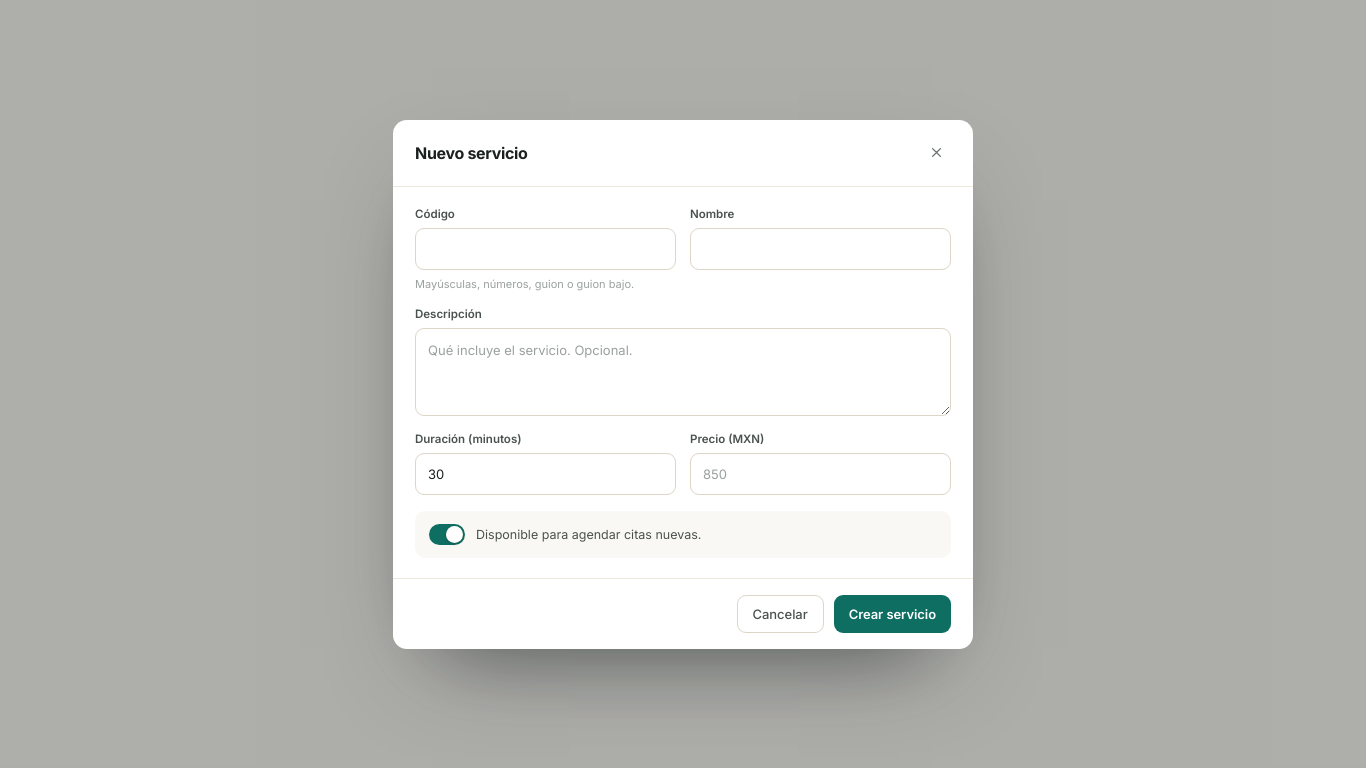
Test case: ServiceFormModal in create mode › rejects a duration that is not a multiple of five
Type "ORTO-01" into the field labelled "Código" at {"x": 546, "y": 248}, box [415,228,676,270]
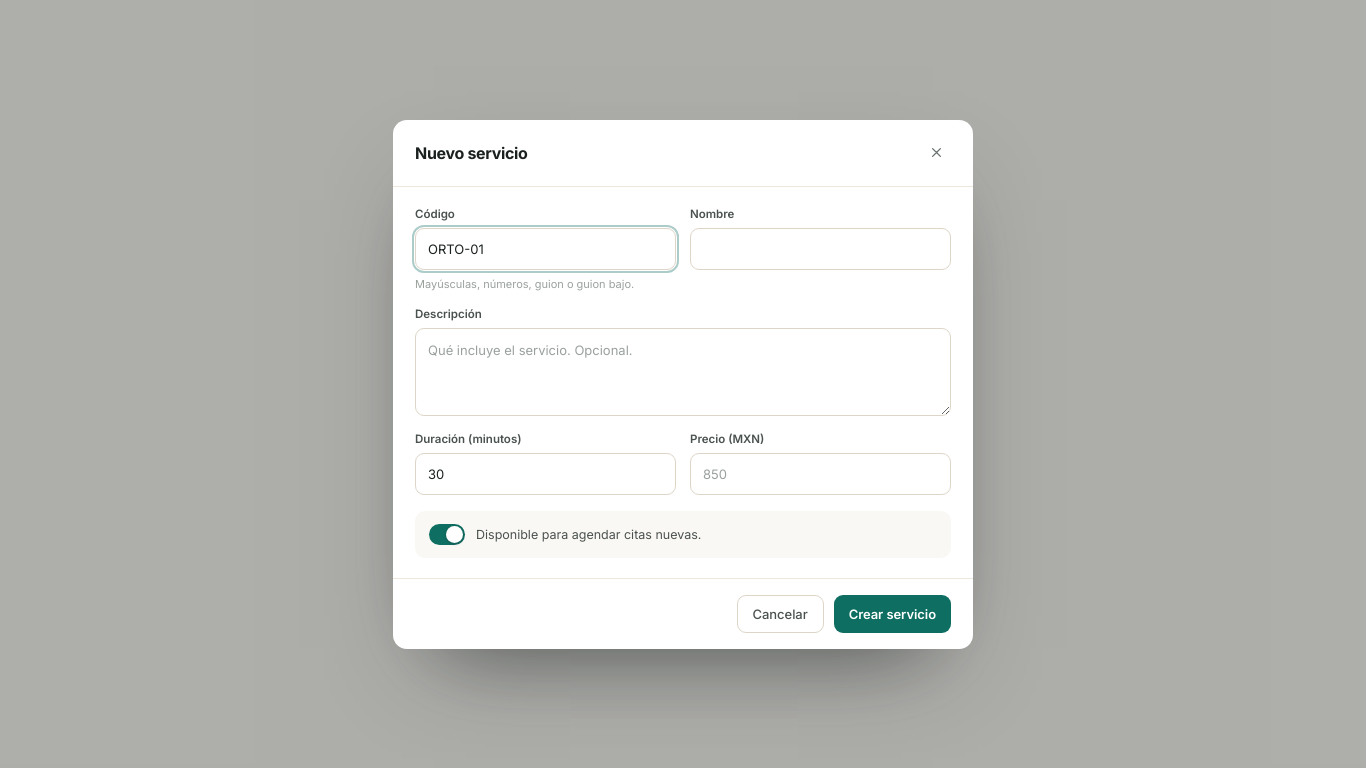
Type "Ortodoncia" into the field labelled "Nombre" at {"x": 820, "y": 248}, box [690,228,951,270]
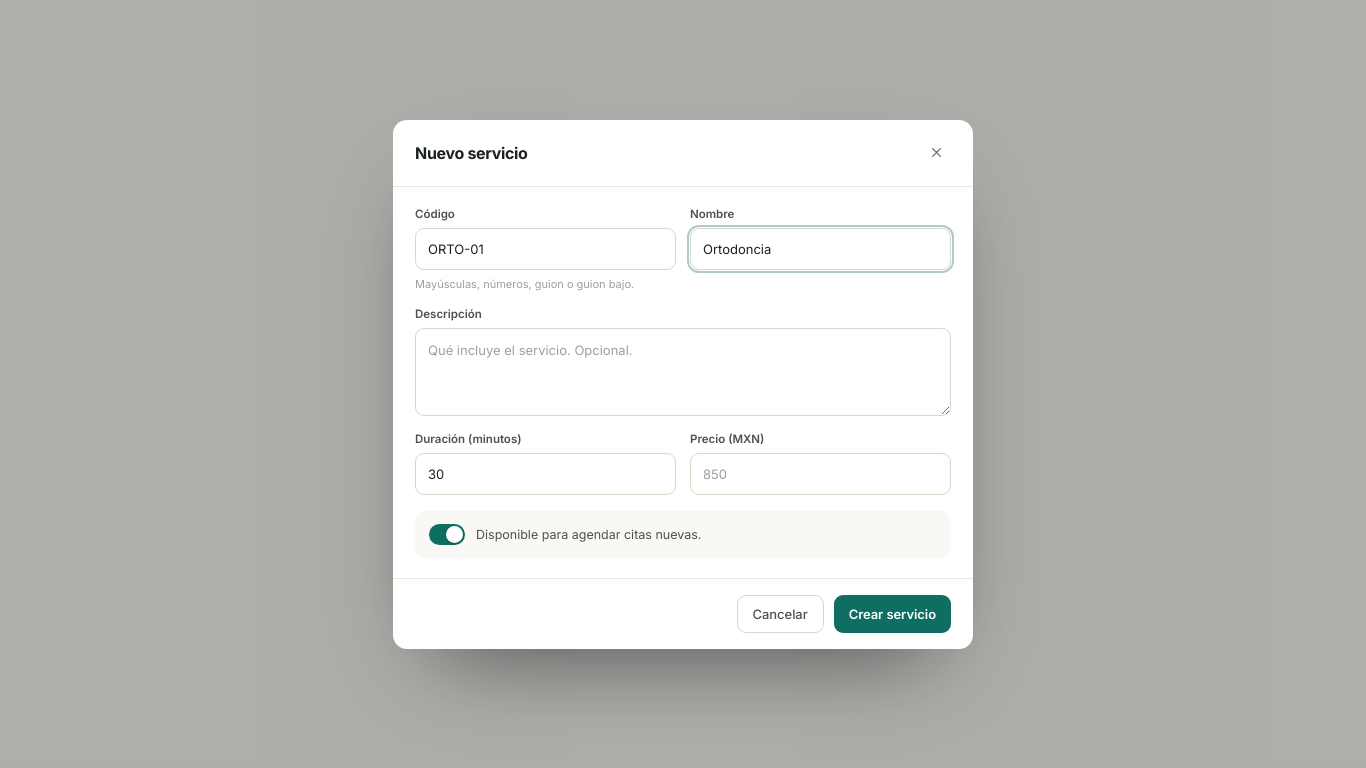
Replace the text in the field labelled "Duración (minutos)" with "37" at {"x": 546, "y": 474}, box [415,452,676,494]
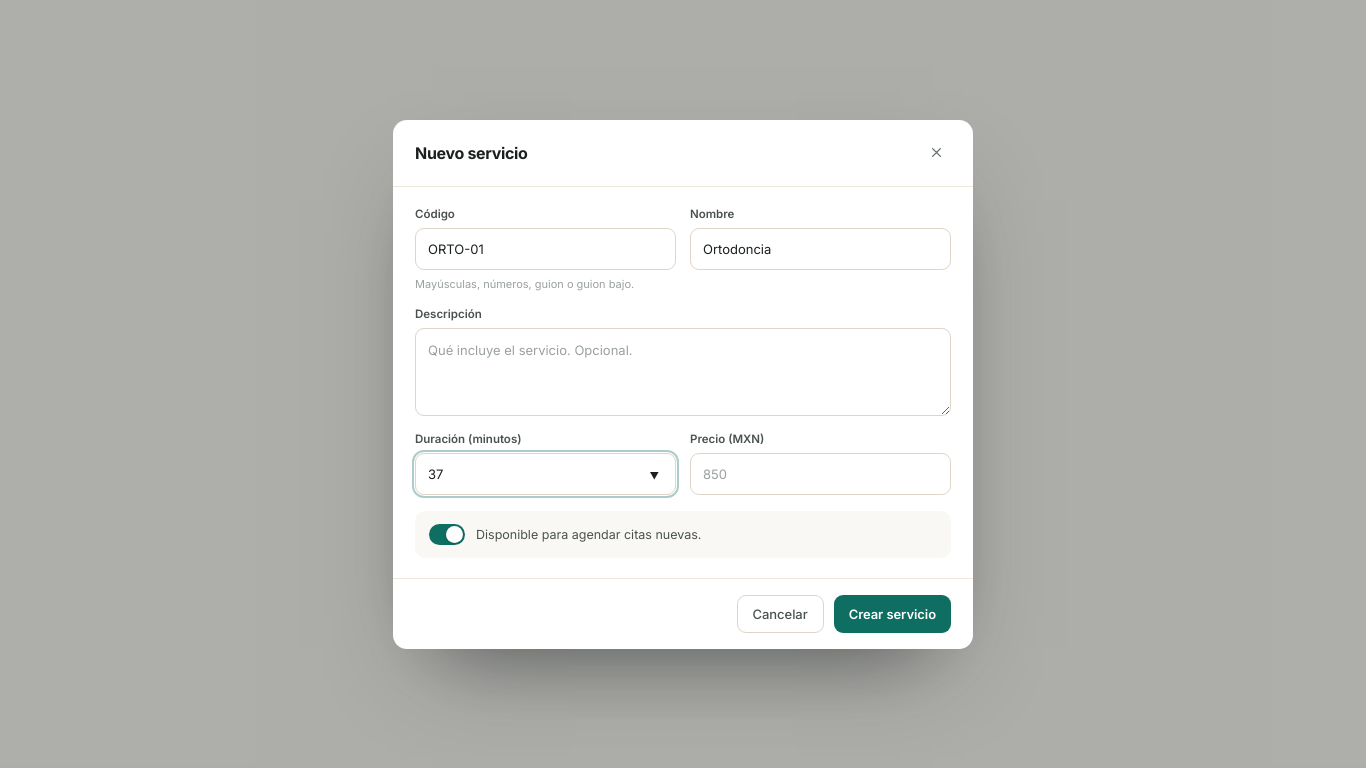
Type "600" into the field labelled "Precio (MXN)" at {"x": 820, "y": 474}, box [690,452,951,494]
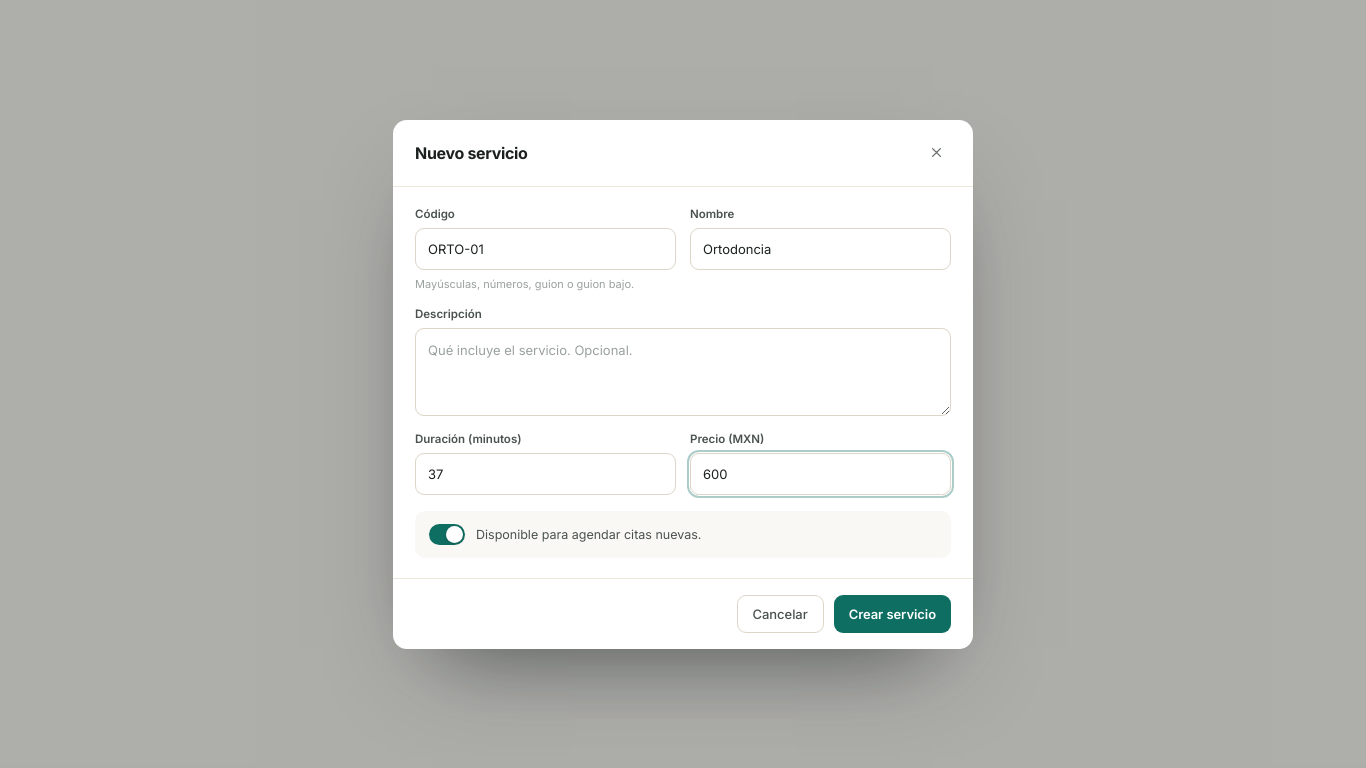
Click the button "Crear servicio" at {"x": 892, "y": 614}, box [834,594,951,632]
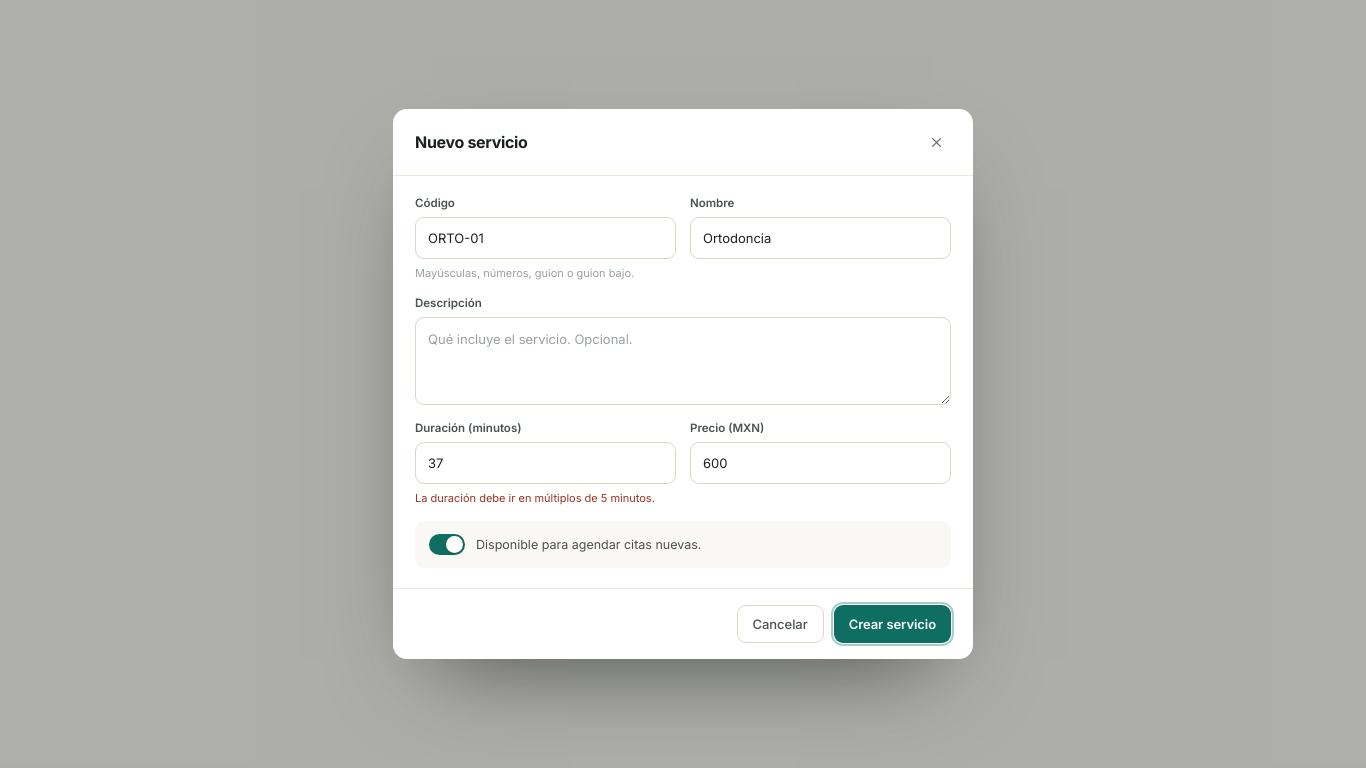
Expected: the text "La duración debe ir en múltiplos de 5 minutos." is shown, [415,491,676,505]
